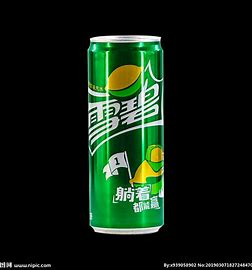Sprite: (85, 32, 169, 234)
